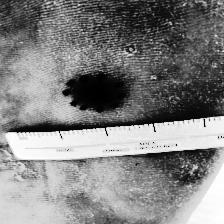Benign Marking or Mole: (74, 82, 116, 101)
